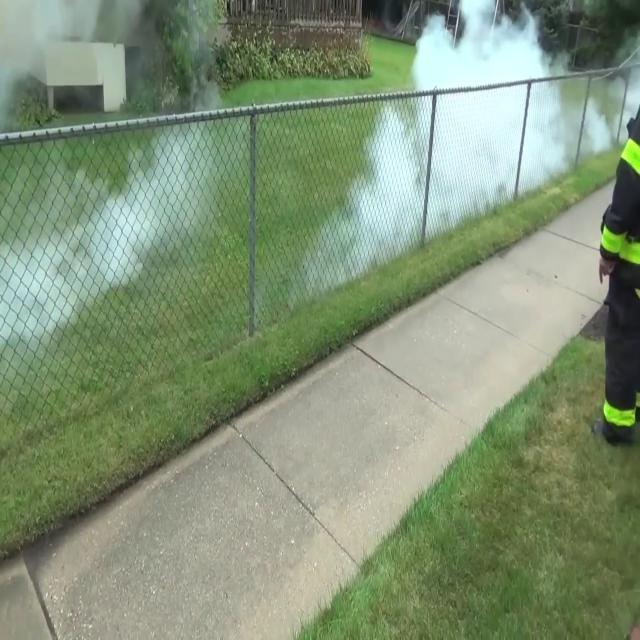Smoke: (310, 1, 556, 297), (8, 100, 236, 346)
